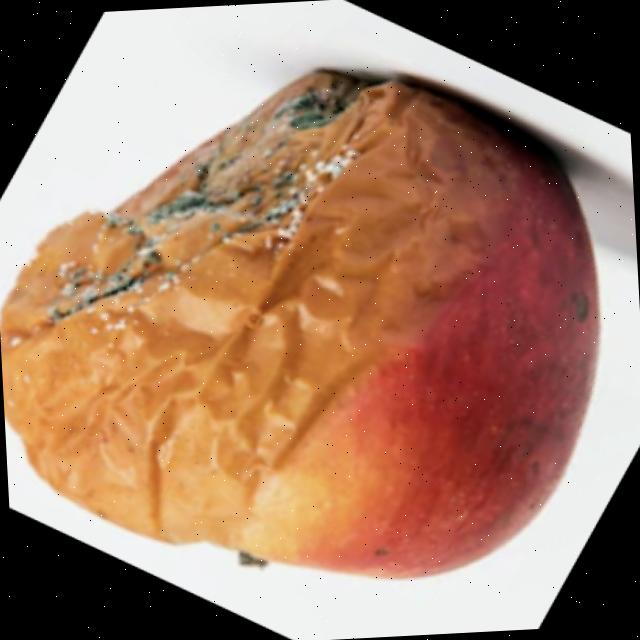Rotten: (0, 42, 618, 603)
